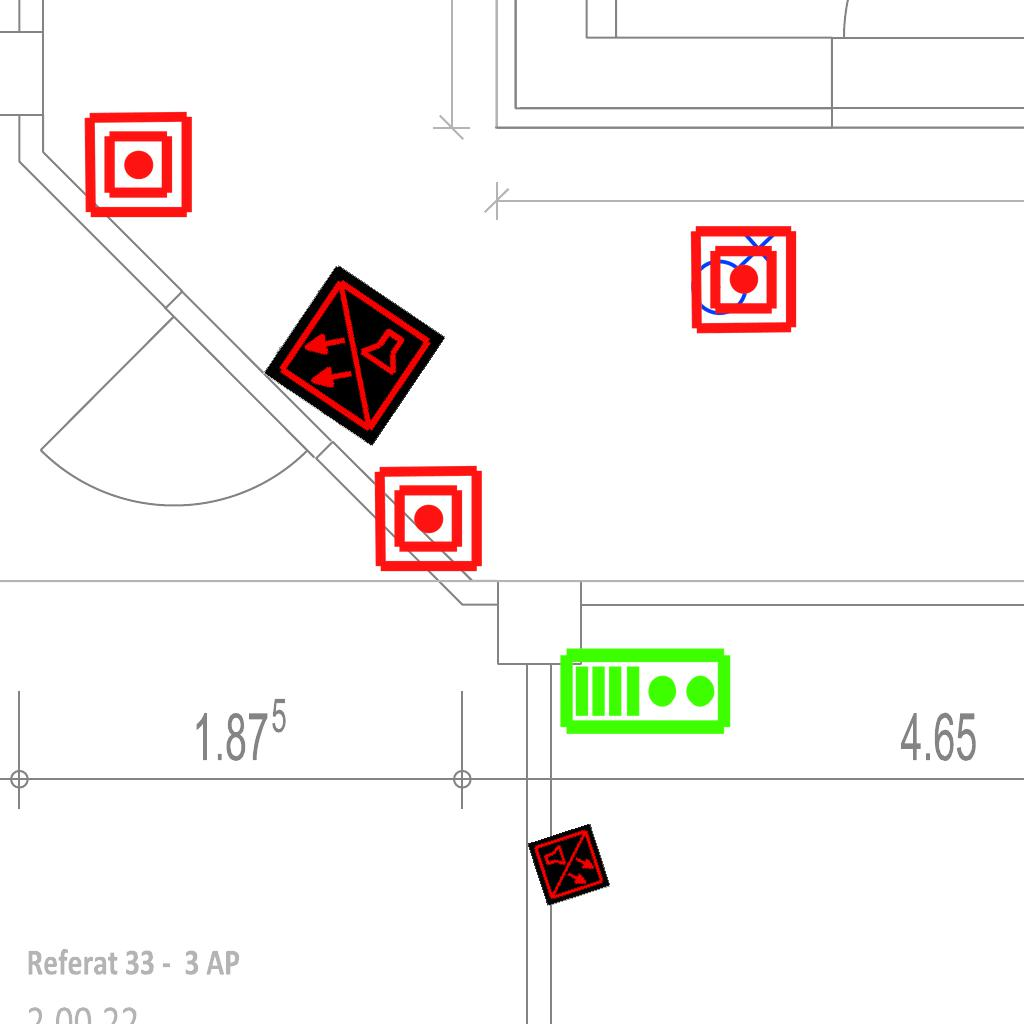Elektroanschluss_allgemein_230V_Geraeteanschlussdose_230V: (682, 223, 781, 317)
Gegensprechanlage_mit_Video: (558, 642, 734, 737)
NAM-Nichtautomatischer_Melder: (82, 108, 195, 221), (372, 462, 485, 575), (687, 223, 800, 336)
OKW_Multisensormelder_(Kombination_optischer_Rauch-Kahlenmonoxid_Waerme-Melder): (262, 263, 446, 447), (527, 823, 611, 907)
